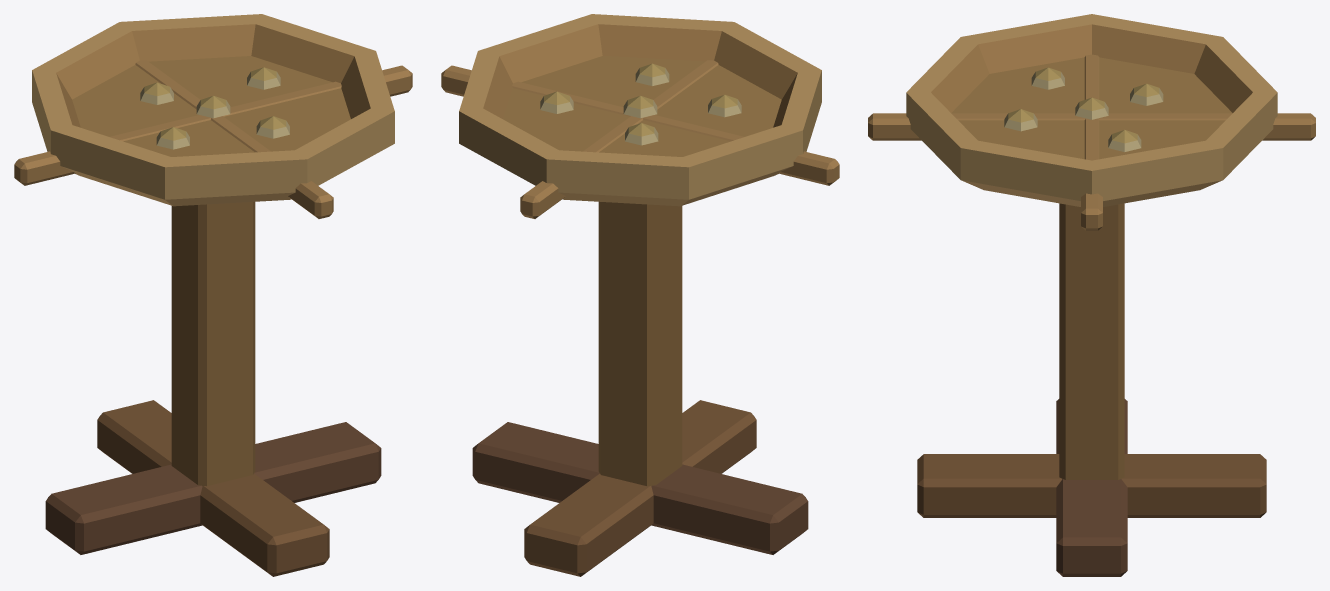
File: BirdFeeder.glb
3 views of the same model, side by side, from view 1: azimuth 30°, elevation 25°; view 2: azimuth 150°, elevation 25°; view 3: azimuth 270°, elevation 25° (orthographic).
Parts seen in each view (by area): view 1: BirdFeeder_Arrangement; view 2: BirdFeeder_Arrangement; view 3: BirdFeeder_Arrangement.
Boxes of the visible parts, x1=… form: BirdFeeder_Arrangement: x1=14, y1=14, x2=412, y2=576; BirdFeeder_Arrangement: x1=441, y1=14, x2=839, y2=576; BirdFeeder_Arrangement: x1=868, y1=14, x2=1315, y2=576.
Size of the model in its own units: 0.82 by 0.835 by 0.82.
